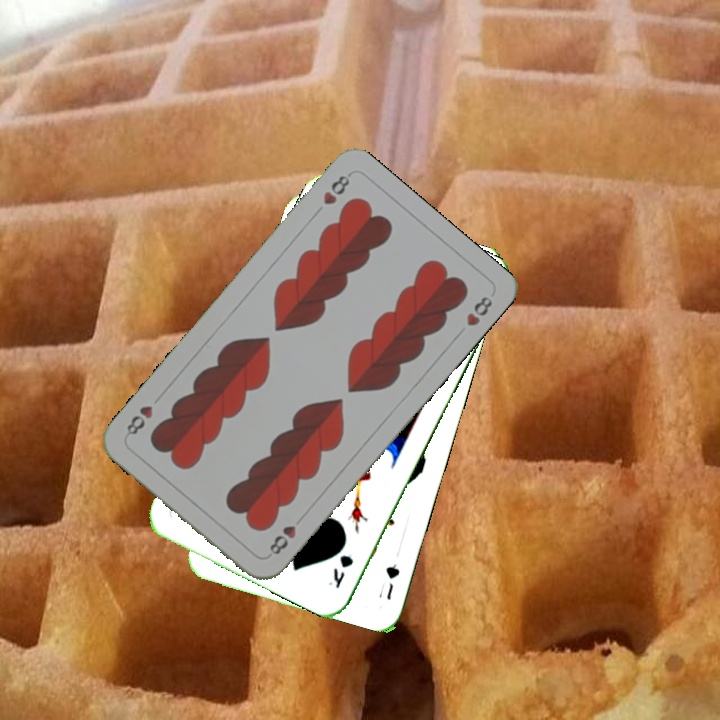GK: (324, 550, 356, 591)
GU: (374, 559, 403, 603)
H8: (265, 511, 307, 558), (319, 169, 353, 208)
